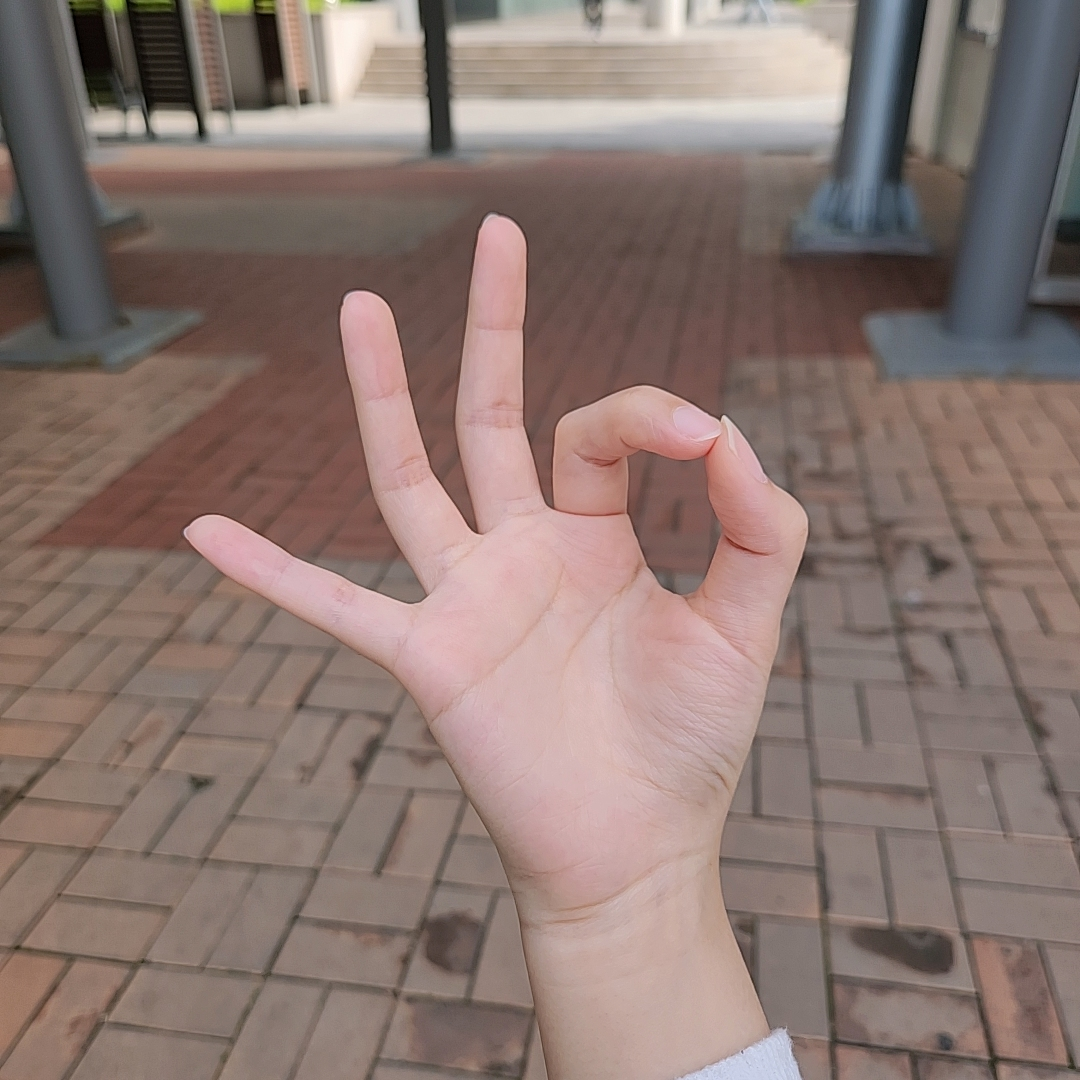see: (187, 215, 813, 860)
